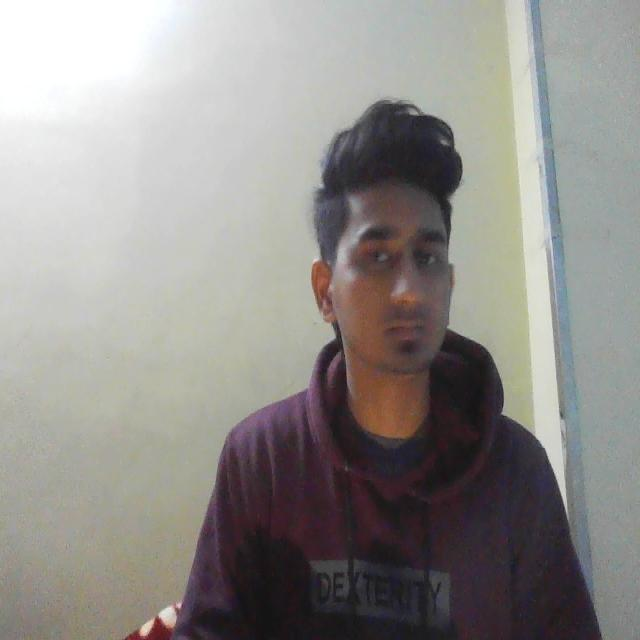real: (320, 121, 465, 395)
